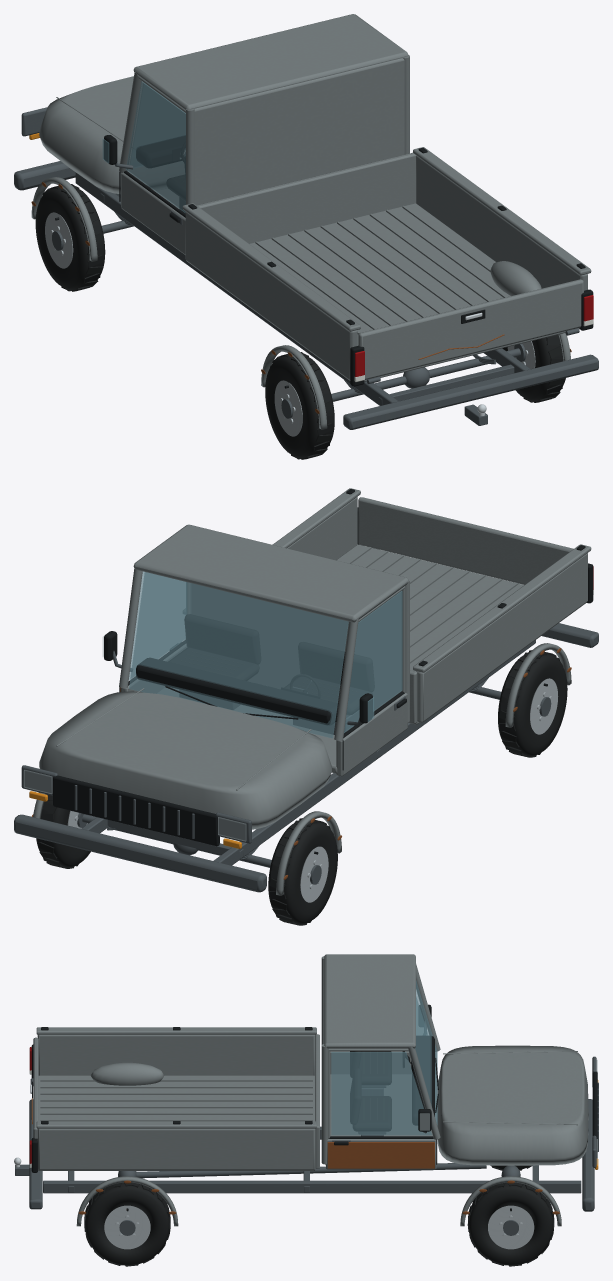
Rendered from RustyPickup.fbx.
3 renders of one model, top to bottom at view 1: azimuth 30°, elevation 25°; view 2: azimuth 150°, elevation 25°; view 3: azimuth 270°, elevation 25°, orthographic. The views are drawn at different scales.
Visible parts, largest first — view 1: RustyPickup__Body, RustyPickup__Tailgate, RustyPickup__DriverDoorGlass, RustyPickup__Wheel_FL, RustyPickup__Wheel_RL, RustyPickup__DriverDoor, RustyPickup__Glass_Windshield, RustyPickup__Wheel_RR; view 2: RustyPickup__Body, RustyPickup__Glass_Windshield, RustyPickup__Tailgate, RustyPickup__Wheel_RL, RustyPickup__Wheel_FL, RustyPickup__DriverDoorGlass, RustyPickup, RustyPickup__DriverDoor, RustyPickup__Wheel_FR; view 3: RustyPickup__Body, RustyPickup, RustyPickup__Wheel_RR, RustyPickup__Wheel_FR, RustyPickup__Glass_Windshield, RustyPickup__DriverDoor, RustyPickup__Tailgate.
Boxes of the visible parts, x1,y1,x2,y2 form: RustyPickup__Body: (14, 14, 598, 429); RustyPickup__Tailgate: (358, 279, 583, 379); RustyPickup__DriverDoorGlass: (102, 81, 185, 212); RustyPickup__Wheel_FL: (35, 184, 105, 291); RustyPickup__Wheel_RL: (265, 352, 334, 459); RustyPickup__DriverDoor: (104, 77, 185, 254); RustyPickup__Glass_Windshield: (130, 83, 185, 167); RustyPickup__Wheel_RR: (502, 334, 565, 402); RustyPickup__Body: (14, 488, 598, 895); RustyPickup__Glass_Windshield: (129, 572, 348, 738); RustyPickup__Tailgate: (358, 497, 573, 584); RustyPickup__Wheel_RL: (498, 650, 567, 757); RustyPickup__Wheel_FL: (268, 818, 337, 925); RustyPickup__DriverDoorGlass: (344, 591, 402, 732); RustyPickup: (129, 571, 186, 679); RustyPickup__DriverDoor: (336, 586, 407, 776); RustyPickup__Wheel_FR: (36, 794, 91, 868); RustyPickup__Body: (14, 954, 598, 1226); RustyPickup: (331, 1052, 431, 1135); RustyPickup__Wheel_RR: (84, 1182, 170, 1266); RustyPickup__Wheel_FR: (467, 1182, 554, 1266); RustyPickup__Glass_Windshield: (415, 980, 437, 1125); RustyPickup__DriverDoor: (330, 1004, 436, 1074); RustyPickup__Tailgate: (30, 1037, 38, 1138).
Size of the model in its own units: 199 by 186 by 453.
3 materials, 1 textured.
